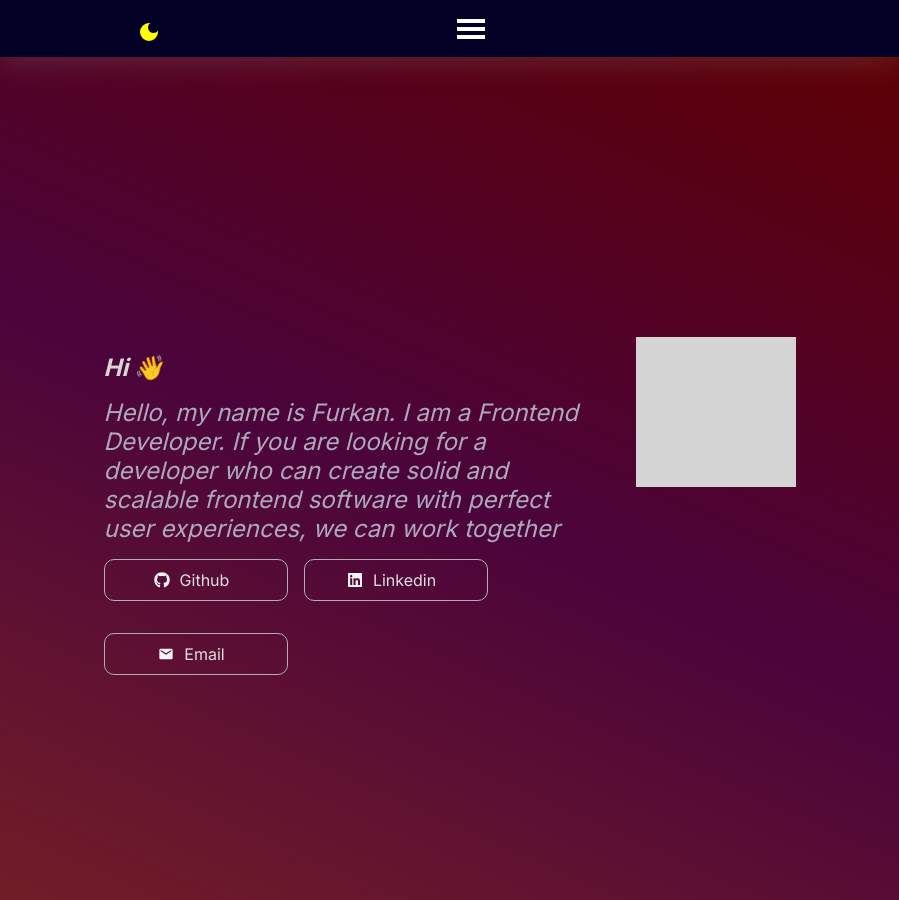
Scenario: Hamburger Menu Test › Hamburger Menu Click Close Test
Step 1. Click the 2nd icon → (472, 29), box x1=456 y1=13 x2=488 y2=45
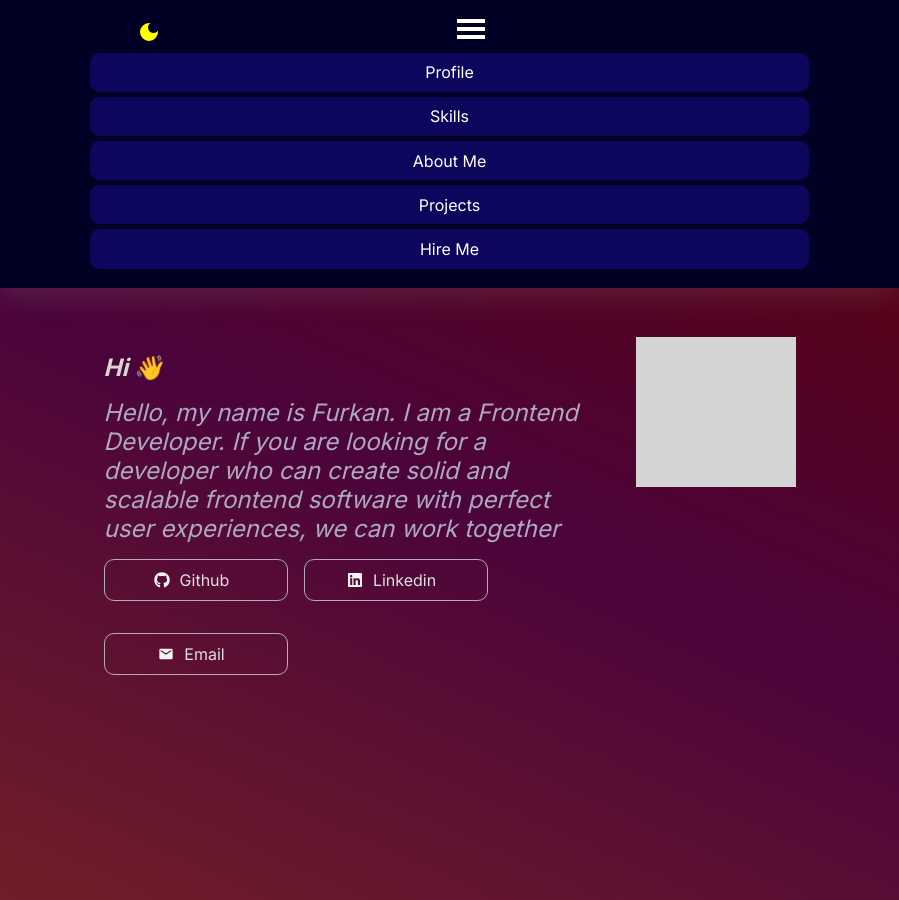
Step 2. Click the 2nd icon → (472, 29), box x1=456 y1=13 x2=488 y2=45
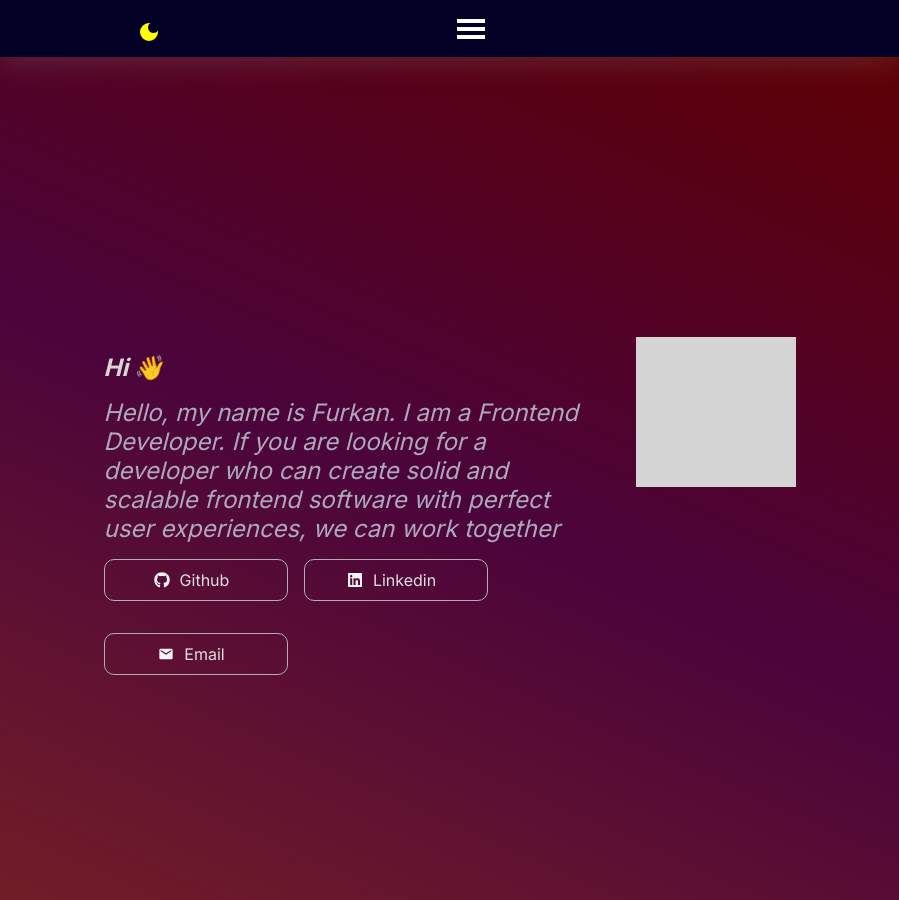
expect the text "Profile Skills About Me Projects Hire Me" is gone: met
